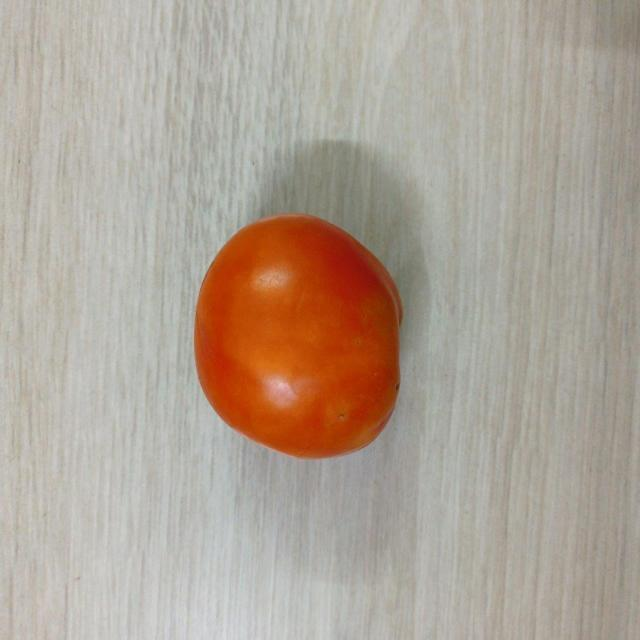Tomato: (190, 213, 405, 462)
